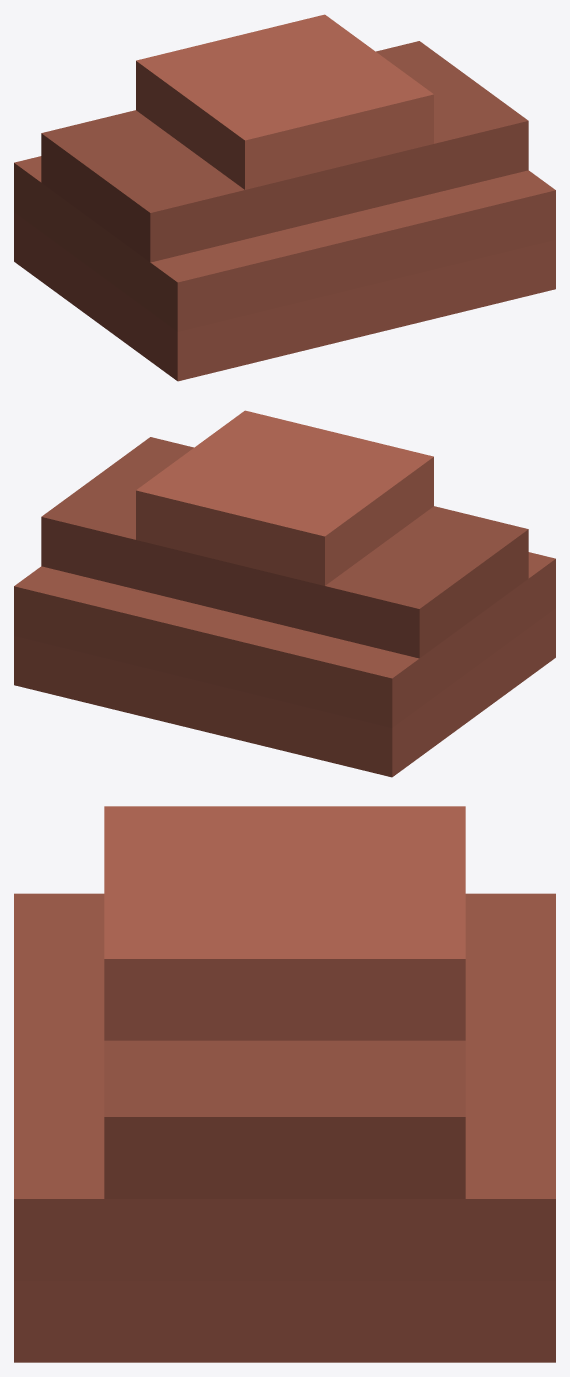
Rendered from mat_dragonsteel_lod1.glb.
The picture shows the model from 3 angles, top to bottom: view 1: azimuth 30°, elevation 25°; view 2: azimuth 150°, elevation 25°; view 3: azimuth 270°, elevation 25°; orthographic projection. The views are drawn at different scales.
Parts seen in each view (by area): view 1: mat_dragonsteel_lod1; view 2: mat_dragonsteel_lod1; view 3: mat_dragonsteel_lod1.
Part boxes in pixels (x1,y1,x2,y2): mat_dragonsteel_lod1: [14, 14, 555, 381]; mat_dragonsteel_lod1: [14, 410, 555, 777]; mat_dragonsteel_lod1: [14, 806, 555, 1362].
Size of the model in its own units: 0.192 by 0.096 by 0.144.
